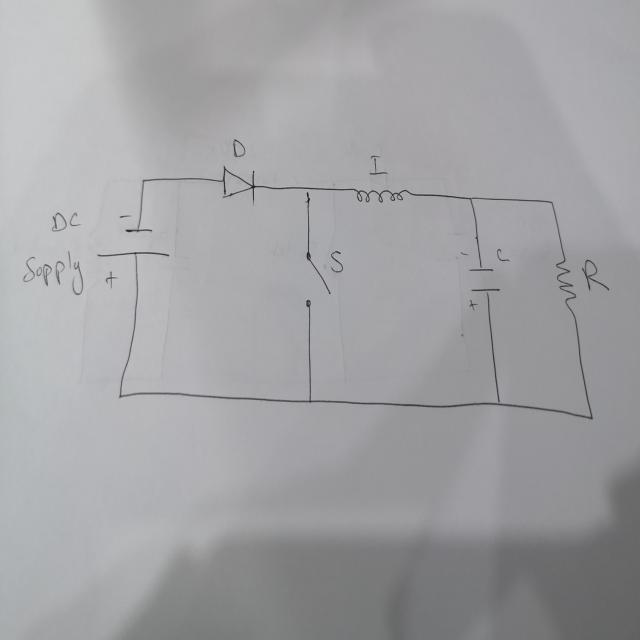capacitor: (458, 248, 501, 314)
diode: (220, 164, 257, 208)
inductor: (354, 185, 412, 205)
junction: (303, 182, 313, 201), (138, 174, 148, 189), (494, 396, 503, 411), (306, 392, 314, 407), (548, 196, 556, 210), (466, 192, 474, 205), (587, 411, 595, 423), (116, 390, 124, 401)
resistor: (554, 251, 578, 314)
source: (94, 210, 174, 290)
switch: (302, 251, 332, 310)
text: (24, 250, 83, 294), (580, 258, 610, 292), (50, 208, 81, 232), (322, 249, 344, 279), (231, 134, 247, 161), (370, 151, 384, 173), (495, 246, 510, 265)
